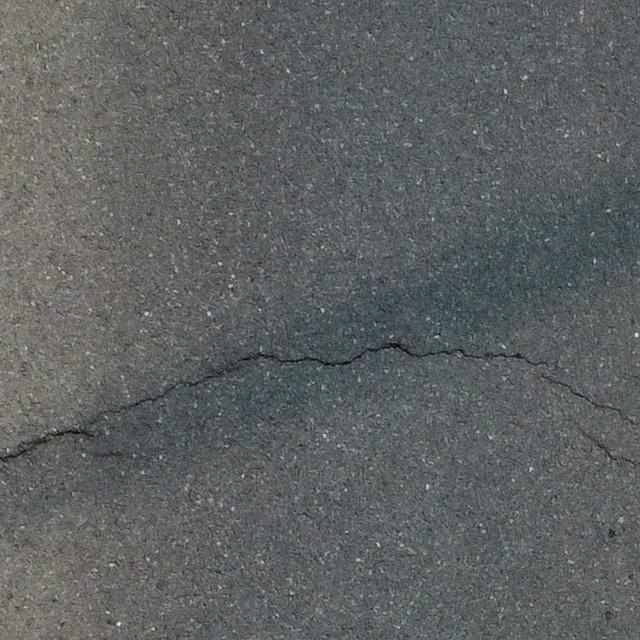TransverseCrack: (1, 341, 550, 461), (541, 370, 640, 423), (578, 426, 638, 468)
